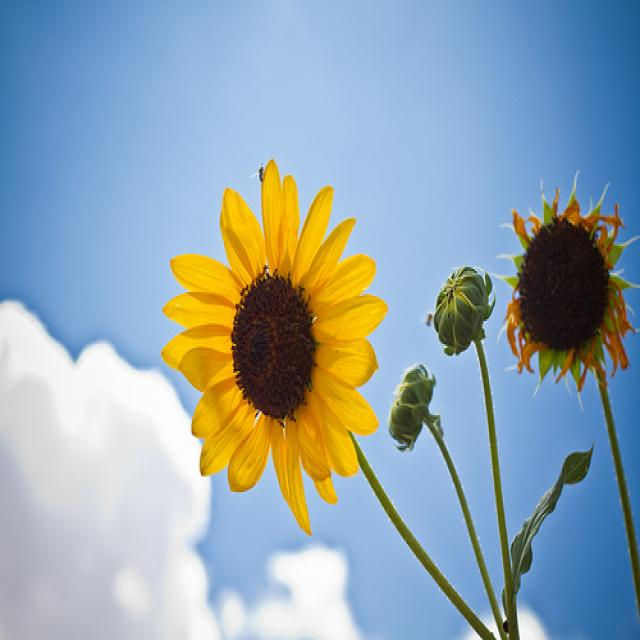sunflower: (167, 169, 387, 513), (497, 172, 637, 391)
